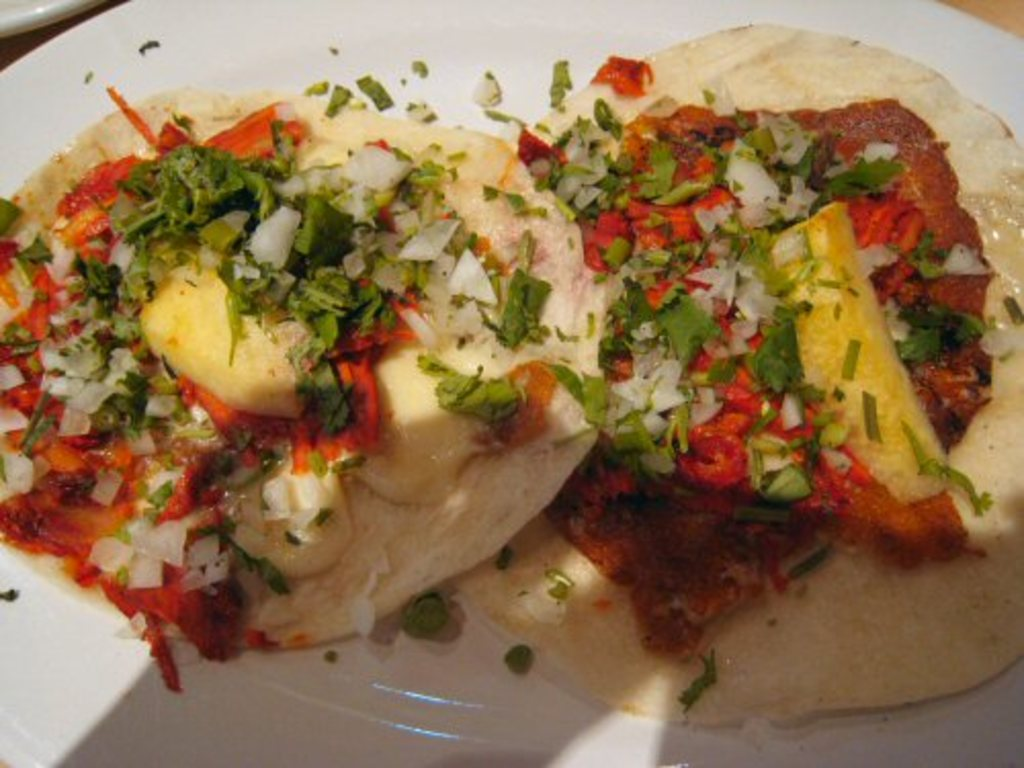taco: (0, 88, 604, 651), (492, 39, 1001, 578)
